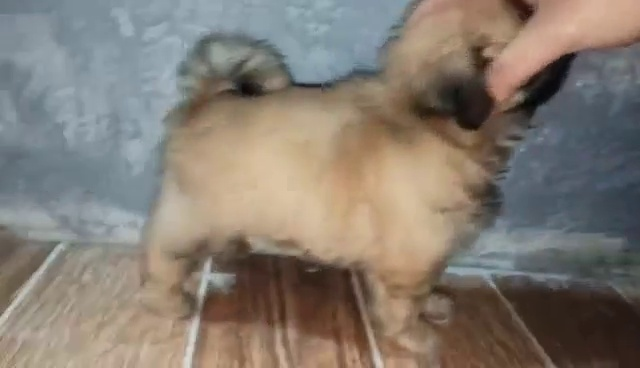dog: (141, 1, 570, 365)
